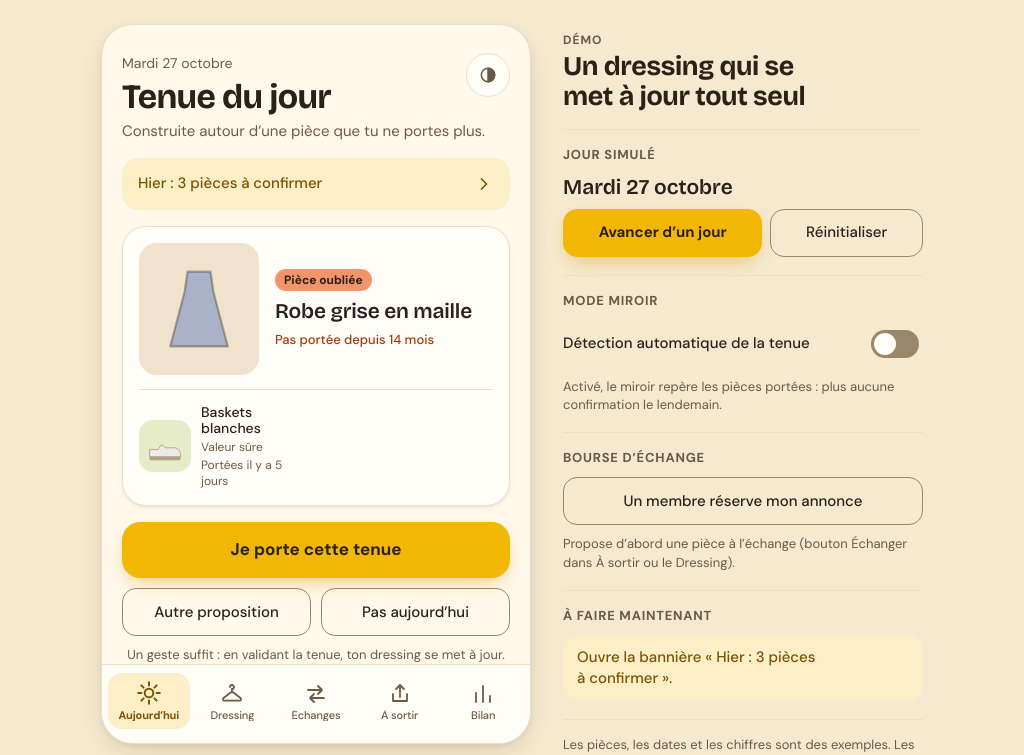
Test: écran Aujourd’hui › annonce le miroir quand le mode miroir est actif
Click the button "Je porte cette tenue". click: {"x": 316, "y": 550}
box: [122,522,510,578]
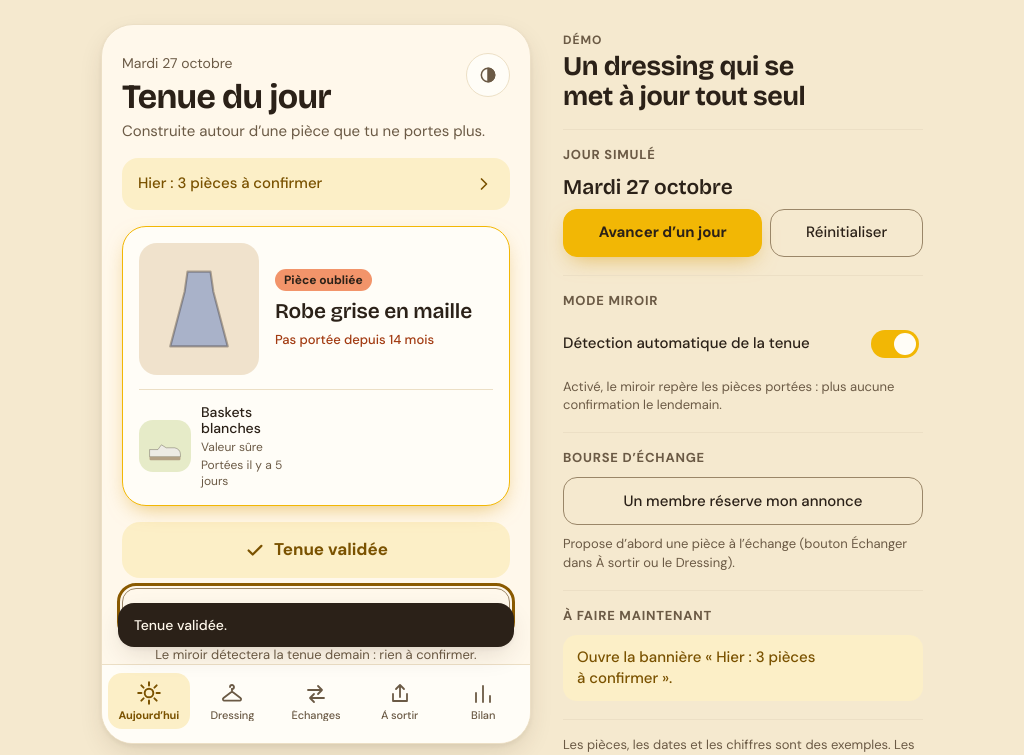
Result: the text "Le miroir détectera la tenue demain : rien à confirmer." is shown at [155,646,477,663]
